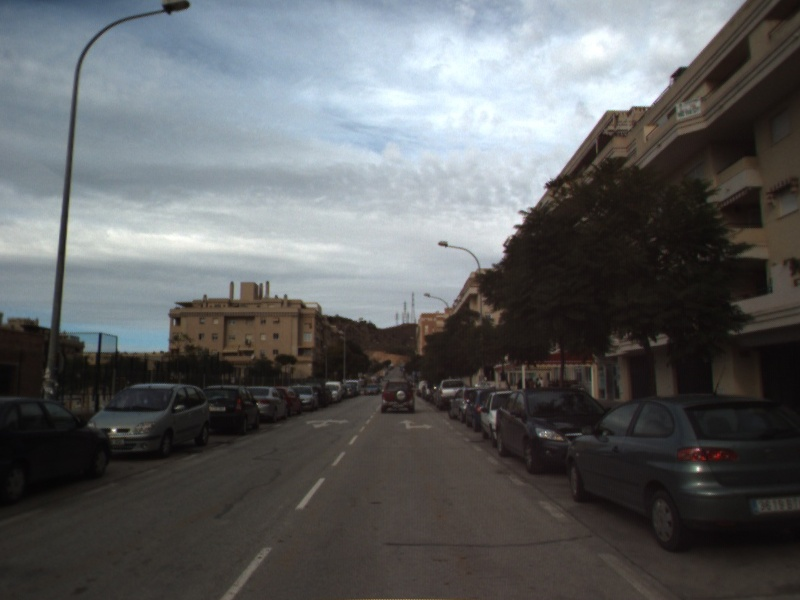STRAIGHT_RIGHT: (398, 417, 435, 431)
